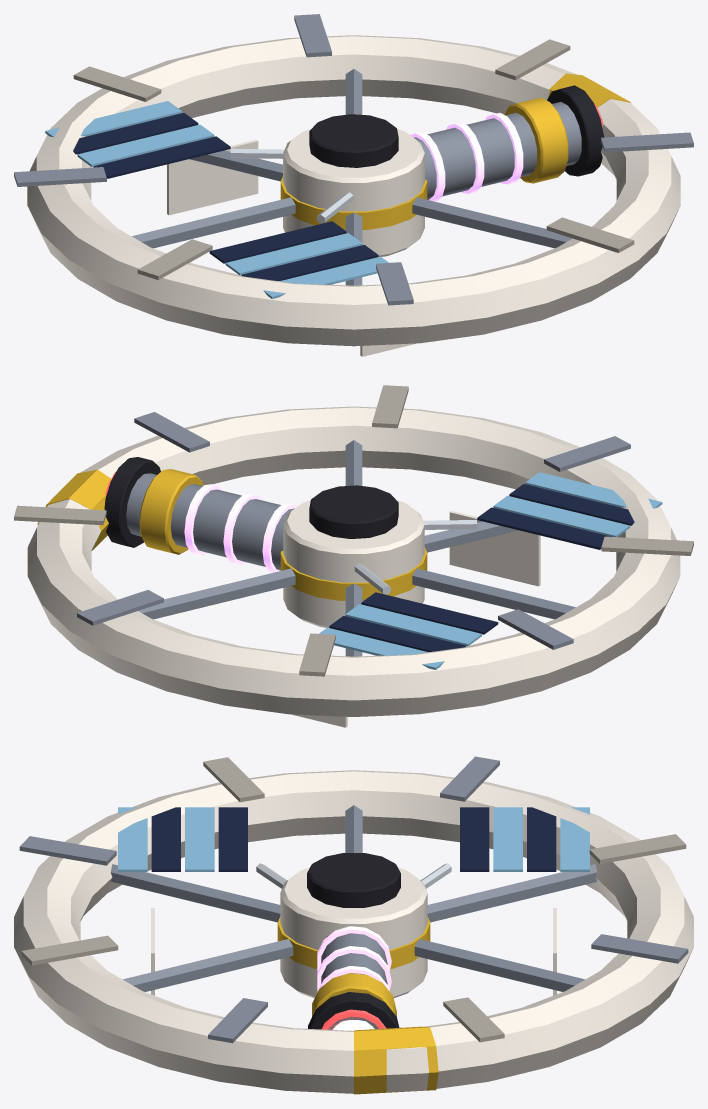
Rendered from laser_platform.glb.
3 views of the same model, one above another, from view 1: azimuth 30°, elevation 25°; view 2: azimuth 150°, elevation 25°; view 3: azimuth 270°, elevation 25° (orthographic). The views are drawn at different scales.
Parts seen in each view (by area): view 1: laser_platform; view 2: laser_platform; view 3: laser_platform.
Boxes of the visible parts, x1,y1,x2,y2 form: laser_platform: (14,14,693,356); laser_platform: (14,385,693,727); laser_platform: (14,756,693,1094).
Bounding box in the file's own units: 102 × 24 × 101.
1 material, 1 textured.
